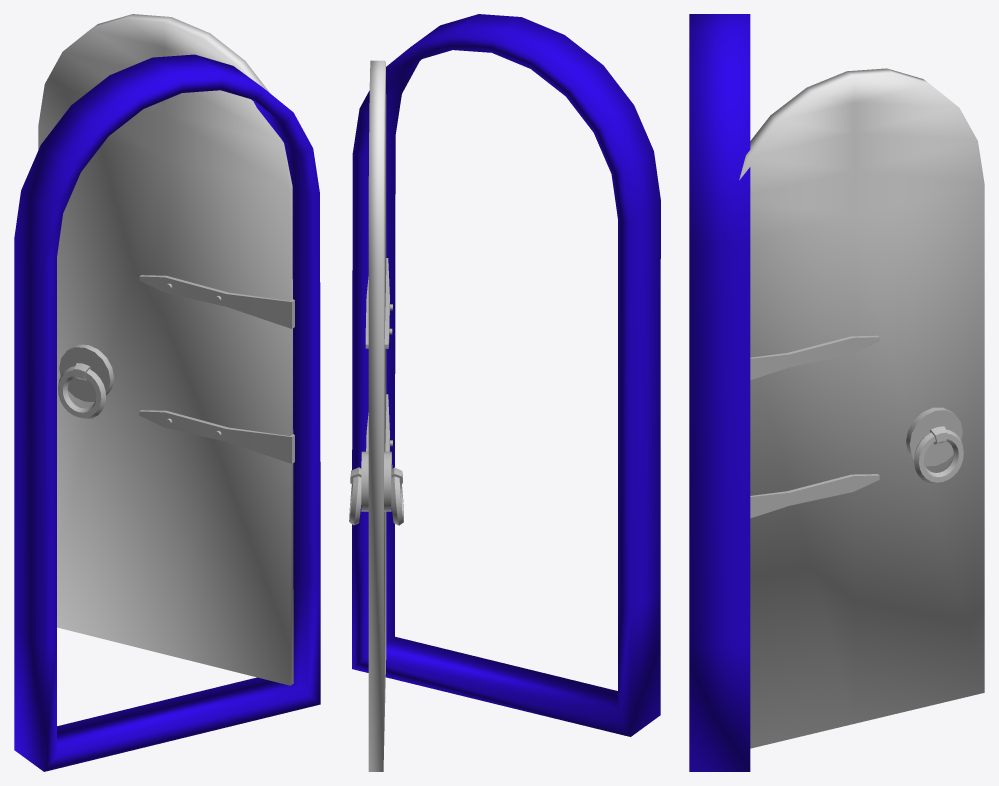
The model's file is Door.fbx.
3 renders of one model, left to right at view 1: azimuth 30°, elevation 25°; view 2: azimuth 150°, elevation 25°; view 3: azimuth 270°, elevation 25°, orthographic. The views are drawn at different scales.
Visible parts, largest first — view 1: Door, DoorWay, DoorSupports, HandleHolder, Handle; view 2: DoorWay, Door, Handle, DoorSupports, HandleHolder; view 3: Door, DoorWay, DoorSupports, HandleHolder, Handle.
Part boxes in pixels (x1,y1,x2,y2): Door: [38, 14, 293, 685]; DoorWay: [14, 54, 320, 771]; DoorSupports: [139, 275, 294, 463]; HandleHolder: [59, 344, 114, 401]; Handle: [58, 363, 106, 419]; DoorWay: [352, 14, 660, 736]; Door: [368, 60, 386, 771]; Handle: [349, 467, 403, 525]; DoorSupports: [365, 258, 392, 468]; HandleHolder: [361, 451, 391, 511]; Door: [739, 68, 984, 748]; DoorWay: [689, 14, 750, 771]; DoorSupports: [750, 335, 879, 518]; HandleHolder: [906, 407, 962, 466]; Handle: [914, 426, 963, 483].
Size of the model in its own units: 107 by 244 by 96.73.
